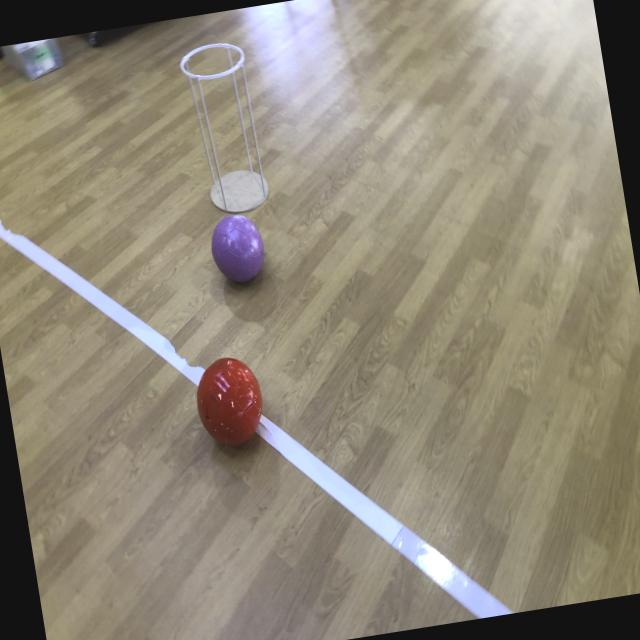purple_ball: (206, 210, 270, 290)
red_ball: (191, 354, 268, 452)
